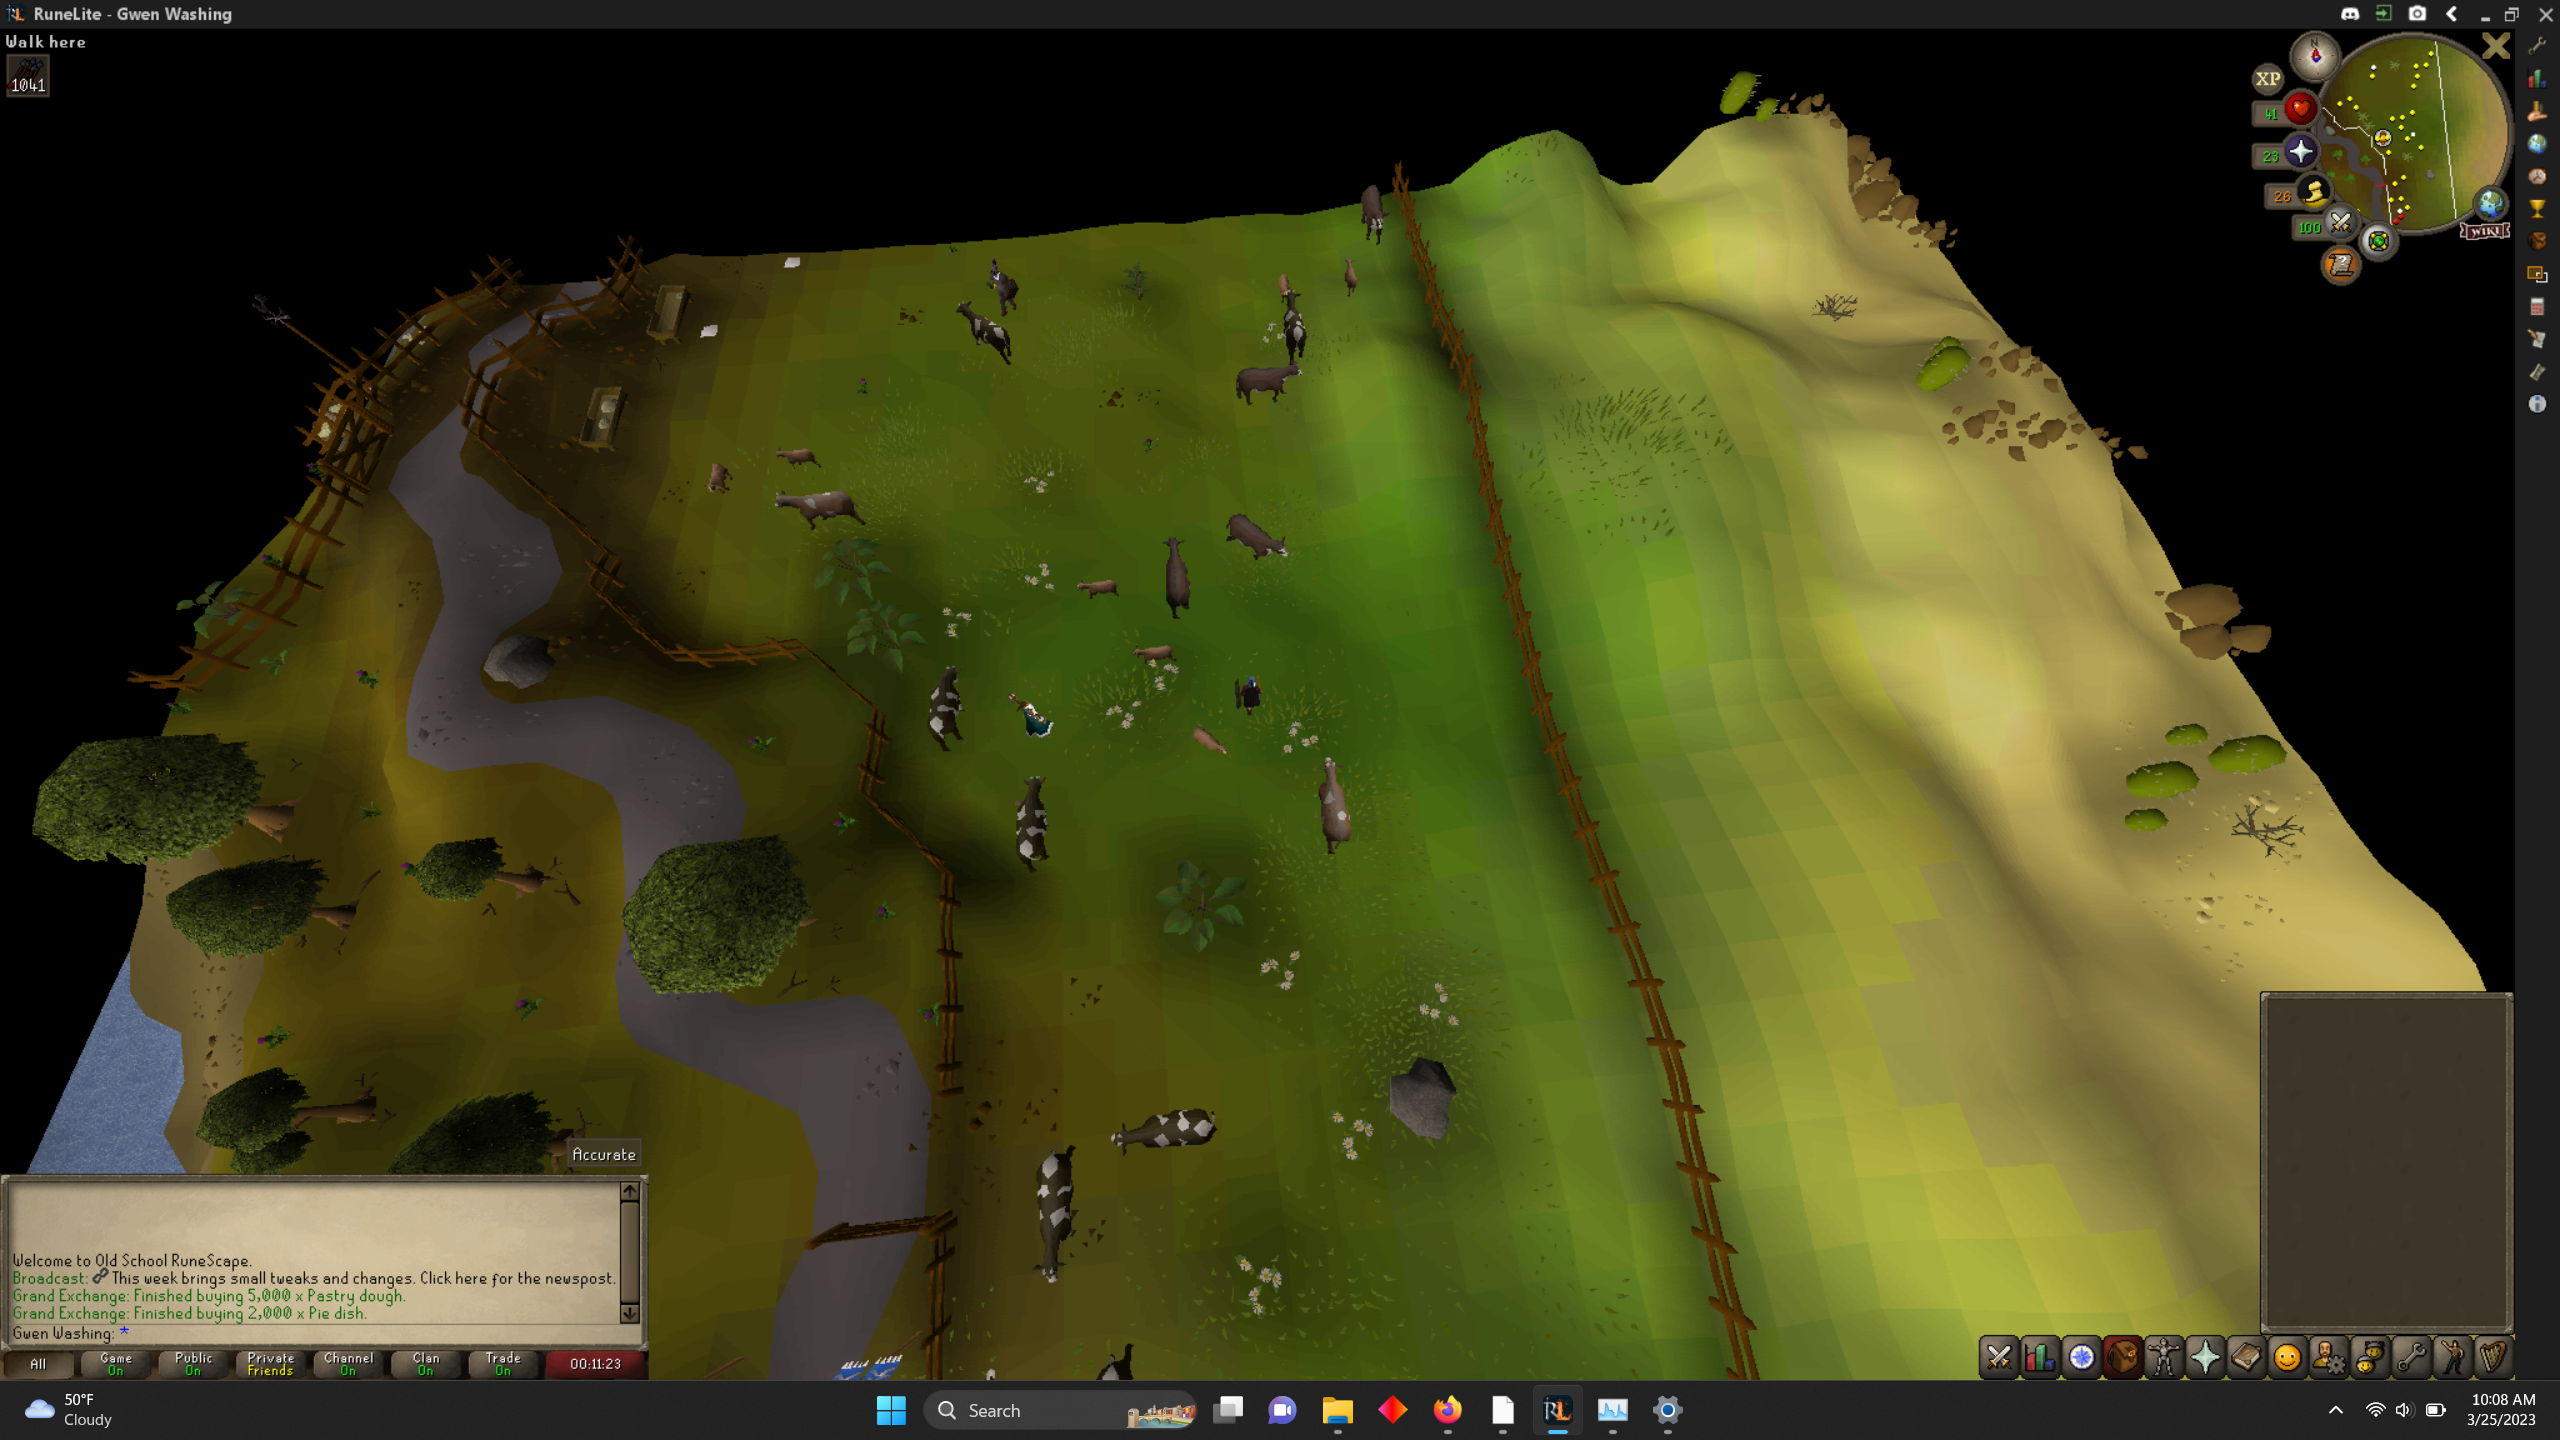cow: (1025, 1136, 1090, 1301), (1108, 1104, 1224, 1155), (770, 478, 869, 533), (1011, 768, 1058, 877), (955, 294, 1020, 369), (1312, 756, 1357, 862), (1220, 510, 1296, 570), (927, 658, 972, 754), (1159, 533, 1201, 617), (1231, 360, 1306, 406), (1275, 288, 1319, 366), (1350, 179, 1387, 251), (1182, 723, 1234, 767), (1071, 571, 1124, 605), (1129, 640, 1178, 668), (702, 455, 735, 496), (768, 443, 823, 468), (1340, 251, 1364, 297), (1268, 265, 1292, 306)
